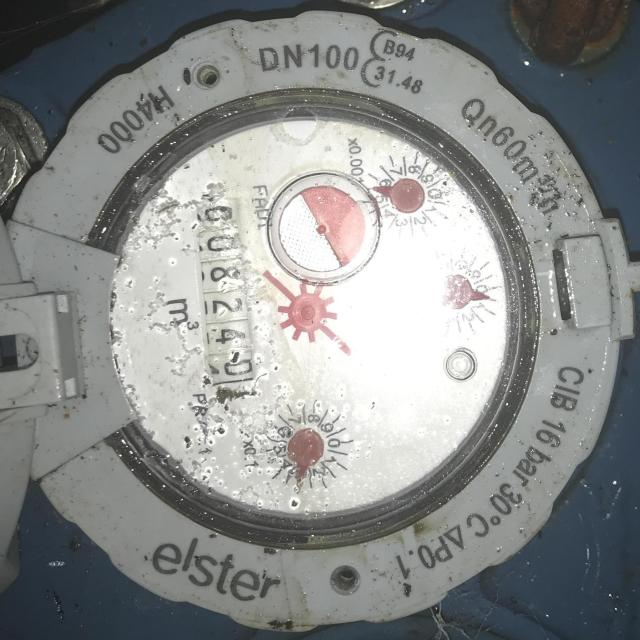gaz_meter: (101, 111, 522, 522)
indication: (187, 194, 260, 385)
